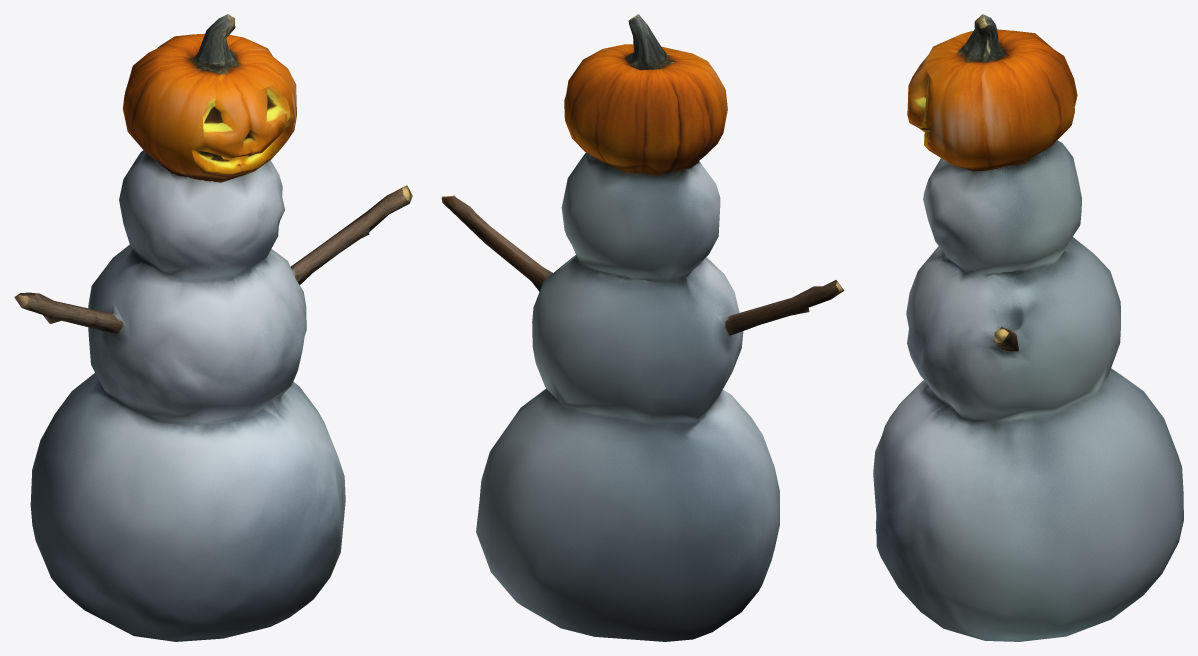
File: snow_golem_single_1500.glb
The picture shows the model from 3 angles, left to right: view 1: azimuth 30°, elevation 25°; view 2: azimuth 150°, elevation 25°; view 3: azimuth 270°, elevation 25°; orthographic projection. The views are drawn at different scales.
Bounding box in the file's own units: 0.5993 × 0.8453 × 0.3992.
1 material, 1 textured.
